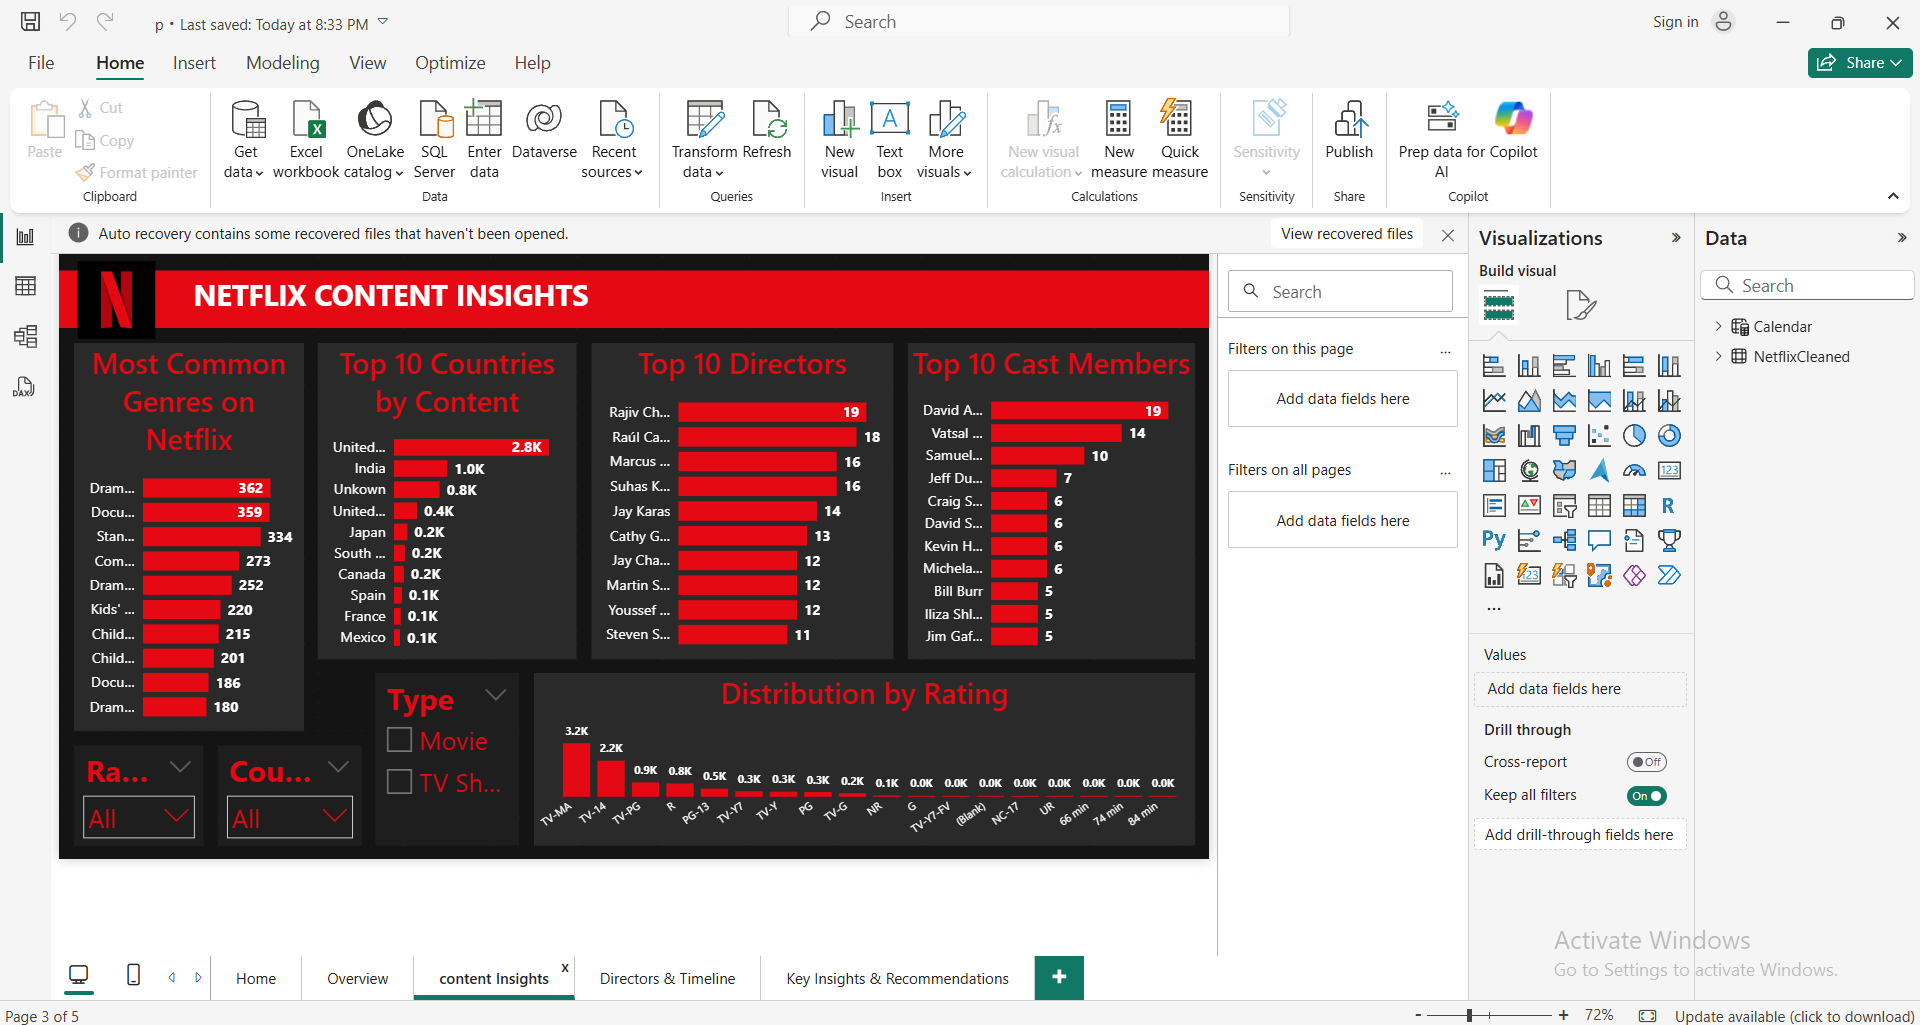

The page's visual inventory and layout, read from the dashboard file:
{"tool":"powerbi","page":{"name":"content Insights","canvas":[1280,720],"ordinal":2},"visuals":[{"type":"shape","box":[0,64,1280,64],"z":0},{"type":"image","box":[0,48,128,96],"z":1000},{"type":"textbox","box":[144,64,528,64],"z":2000},{"type":"clusteredBarChart","title":"Top 10 Countries by Content","fields":{"Category":["NetflixCleaned.country"],"Y":["NetflixCleaned.Total Titles"]},"box":[288,144,288,352],"z":3000},{"type":"clusteredColumnChart","title":"Distribution by Rating","fields":{"Category":["NetflixCleaned.rating"],"Y":["NetflixCleaned.Total Titles"]},"box":[528,512,736,192],"z":4000},{"type":"barChart","title":"Top 10 Directors","fields":{"Category":["NetflixCleaned.director"],"Y":["NetflixCleaned.Total Titles"]},"box":[592,144,336,352],"z":5000},{"type":"barChart","title":"Top 10 Cast Members","fields":{"Category":["NetflixCleaned.cast"],"Y":["NetflixCleaned.Total Titles"]},"box":[944,144,320,352],"z":6000},{"type":"barChart","title":"Most Common Genres on Netflix","fields":{"Category":["NetflixCleaned.genre"],"Y":["NetflixCleaned.Total Titles"]},"box":[16,144,256,432],"z":7000},{"type":"slicer","fields":{"Values":["NetflixCleaned.country"]},"box":[176,592,160,112],"z":8000},{"type":"slicer","fields":{"Values":["NetflixCleaned.rating"]},"box":[16,592,144,112],"z":9000},{"type":"slicer","fields":{"Values":["NetflixCleaned.type"]},"box":[352,512,160,192],"z":10000}]}

Visuals, with their boxes on the page's 1280x720 design canvas (x1, y1, x2, y2). These are canvas units, not pixel positions in the 1920x1025 screenshot, which may show the page scaled, cropped or inside an application window:
shape: x1=0 y1=64 x2=1280 y2=128
image: x1=0 y1=48 x2=128 y2=144
textbox: x1=144 y1=64 x2=672 y2=128
"Top 10 Countries by Content" clusteredBarChart: x1=288 y1=144 x2=576 y2=496
"Distribution by Rating" clusteredColumnChart: x1=528 y1=512 x2=1264 y2=704
"Top 10 Directors" barChart: x1=592 y1=144 x2=928 y2=496
"Top 10 Cast Members" barChart: x1=944 y1=144 x2=1264 y2=496
"Most Common Genres on Netflix" barChart: x1=16 y1=144 x2=272 y2=576
slicer - NetflixCleaned.country: x1=176 y1=592 x2=336 y2=704
slicer - NetflixCleaned.rating: x1=16 y1=592 x2=160 y2=704
slicer - NetflixCleaned.type: x1=352 y1=512 x2=512 y2=704
